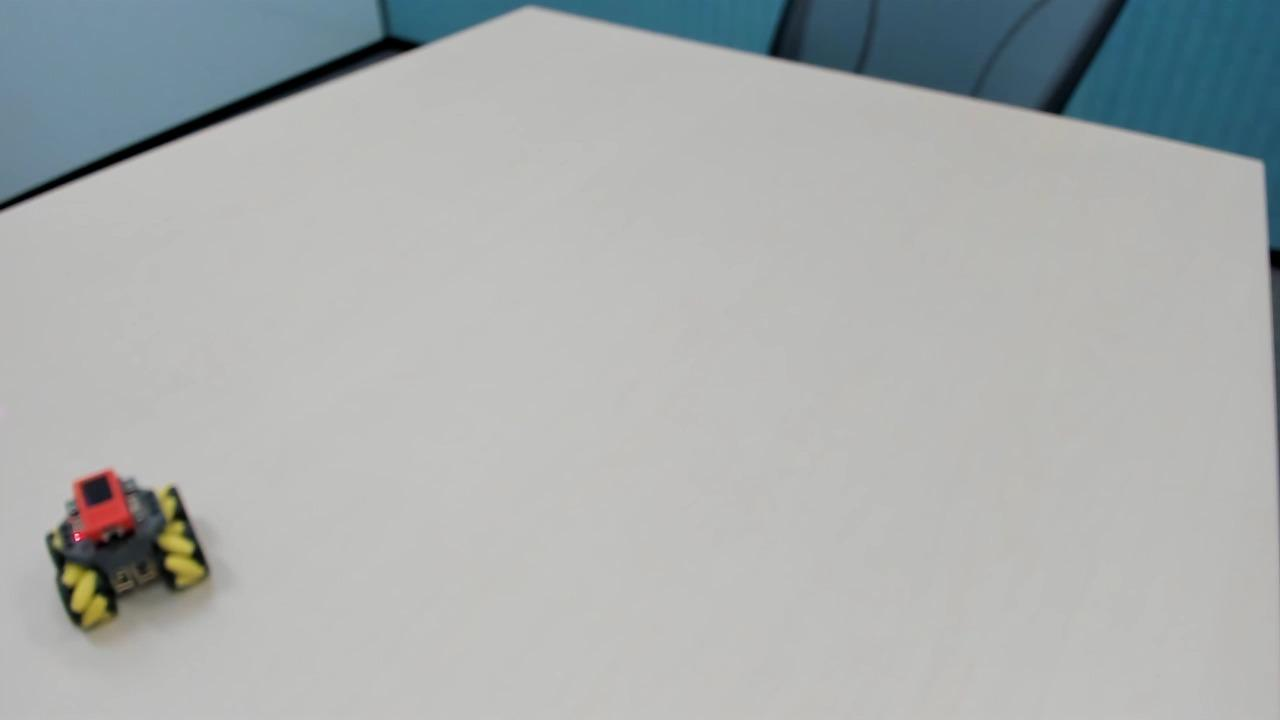R-Robot: (20, 461, 228, 636)
